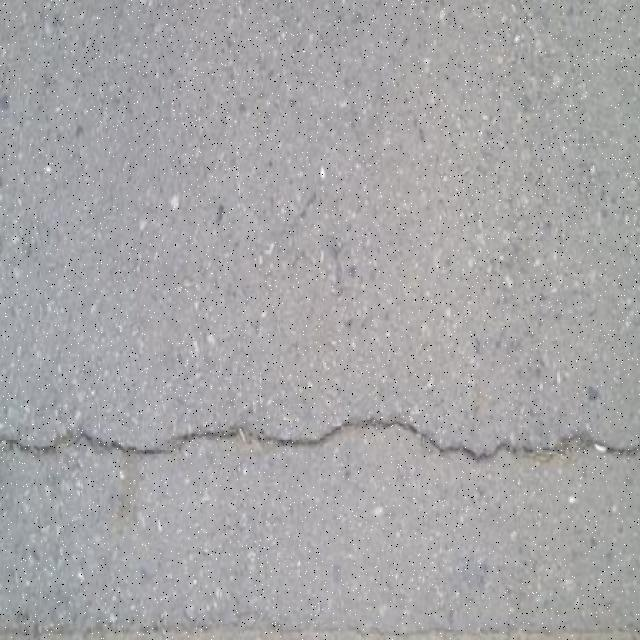moderate crack: (3, 418, 634, 466)
severe crack: (412, 425, 485, 456), (350, 415, 425, 439), (577, 438, 637, 456)
